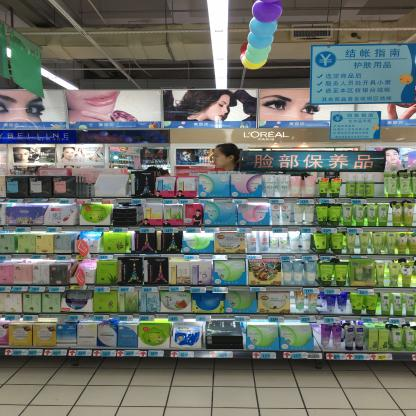Void: (207, 321, 240, 332), (374, 176, 384, 197), (59, 341, 74, 347)
